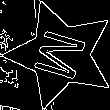M_E: (28, 25, 93, 84)
